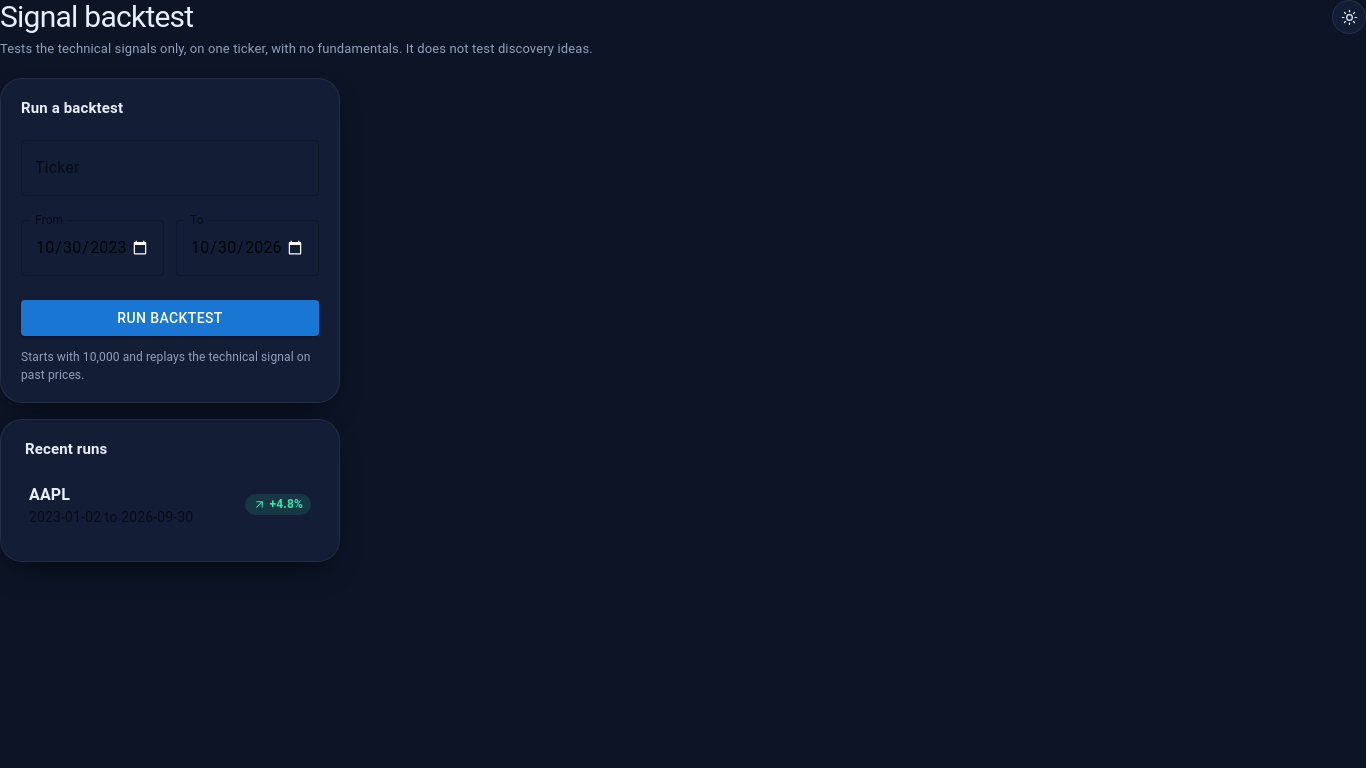
Test: BacktestsPage › hides the failure warning once a past run is selected
expect the button "AAPL 2023-01-02 to 2026-09-30 +4.8%" is shown: met, box [29,484,311,524]
Type "AAPL" into the dropdown labelled "Ticker" at (170,168), box [30,148,310,186]
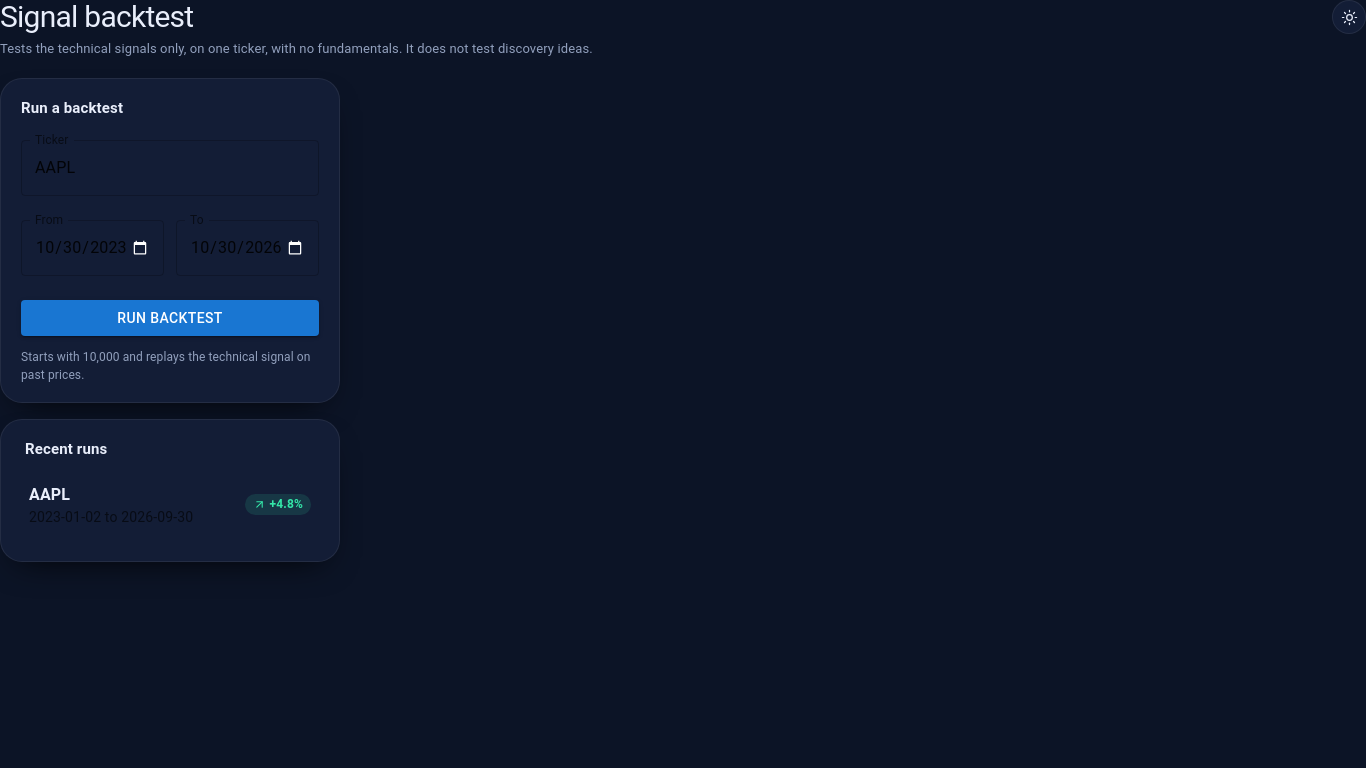
Click the button "Run backtest" at (170,318), box [21,300,319,336]
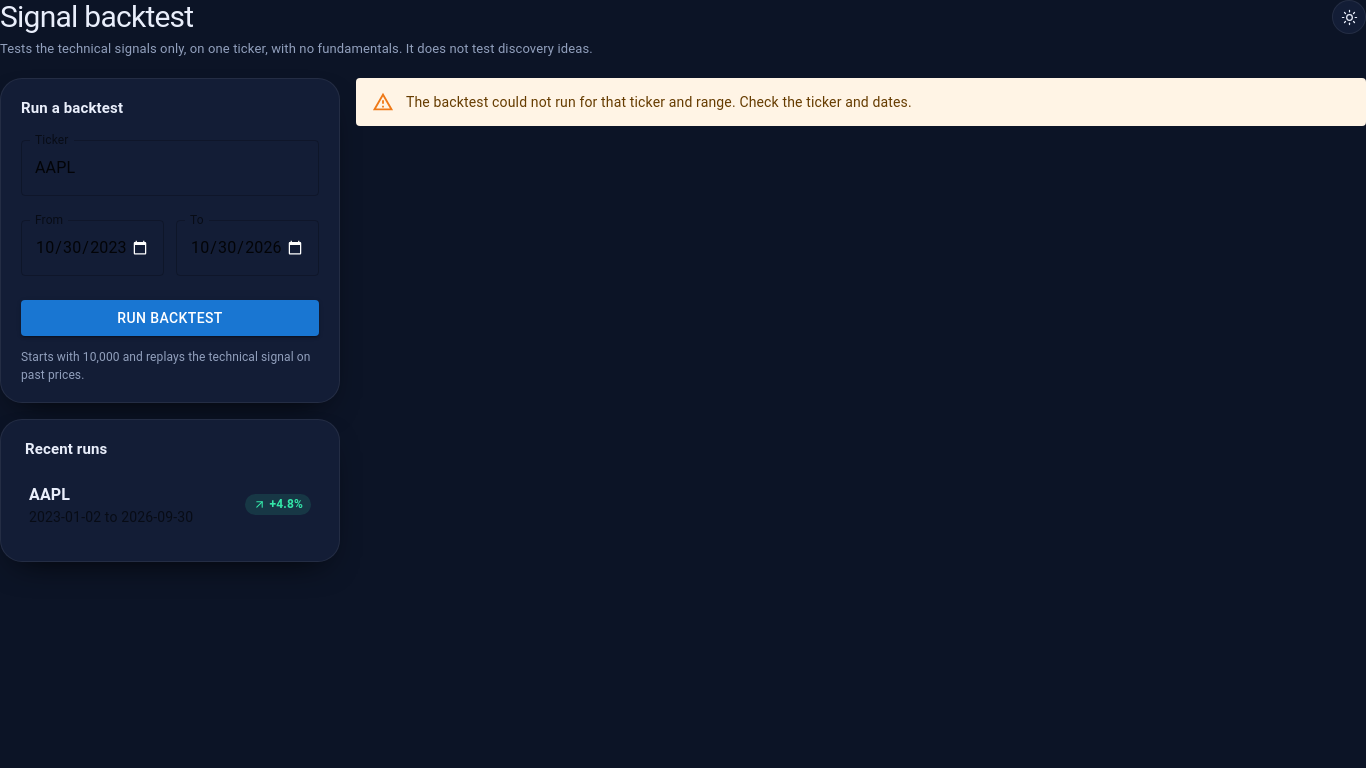
expect the text "The backtest could not run for that ticker and range. Check the ticker and dates." is shown: met, box [406,94,912,110]
Click the button "AAPL 2023-01-02 to 2026-09-30 +4.8%" at (50,494), box [29,484,311,524]
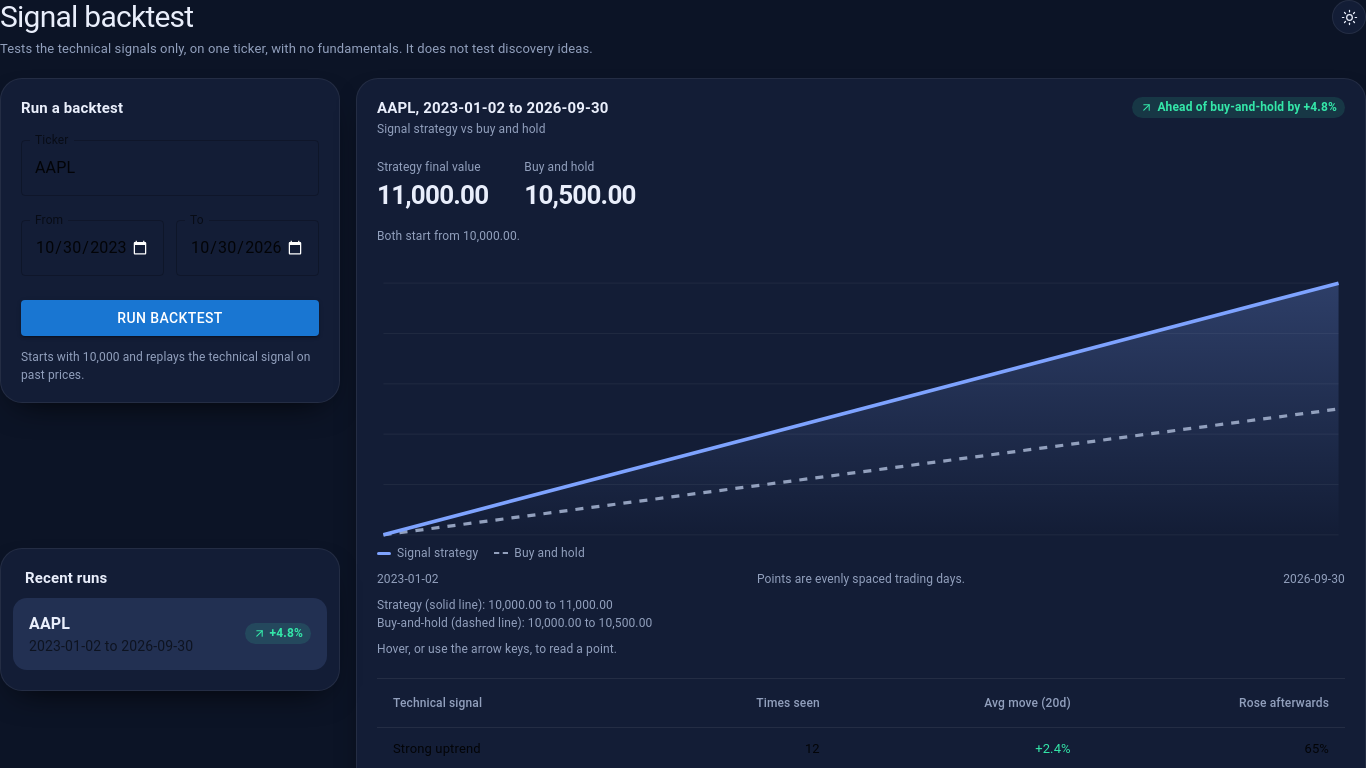
expect the text "11,000.00" is shown: met, box [377,176,488,214]
expect the text "The backtest could not run for that ticker and range. Check the ticker and dates." is gone: met
